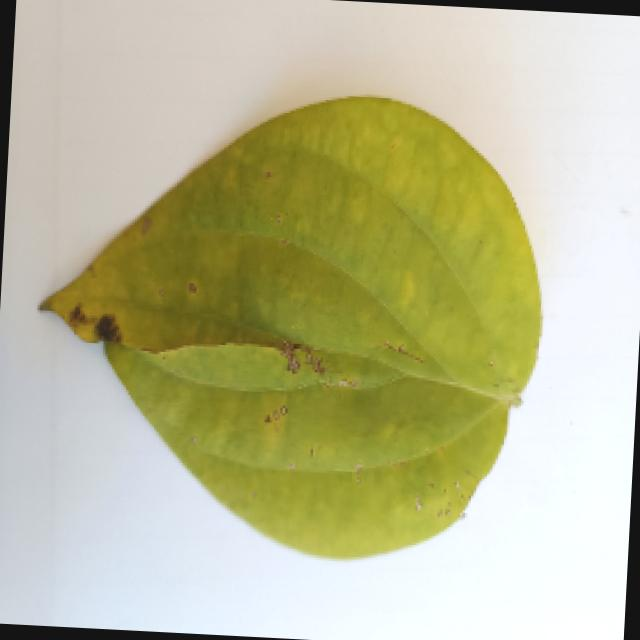slow-decline: (28, 83, 572, 580)
